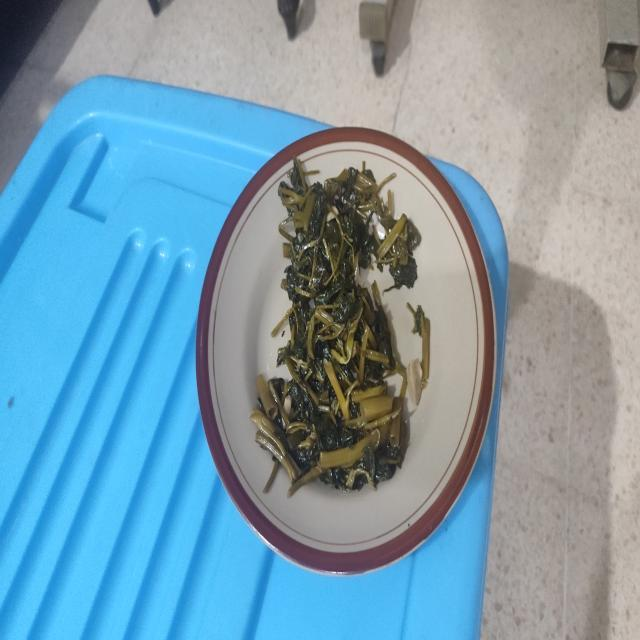tumis_kangkung: (250, 159, 430, 495)
